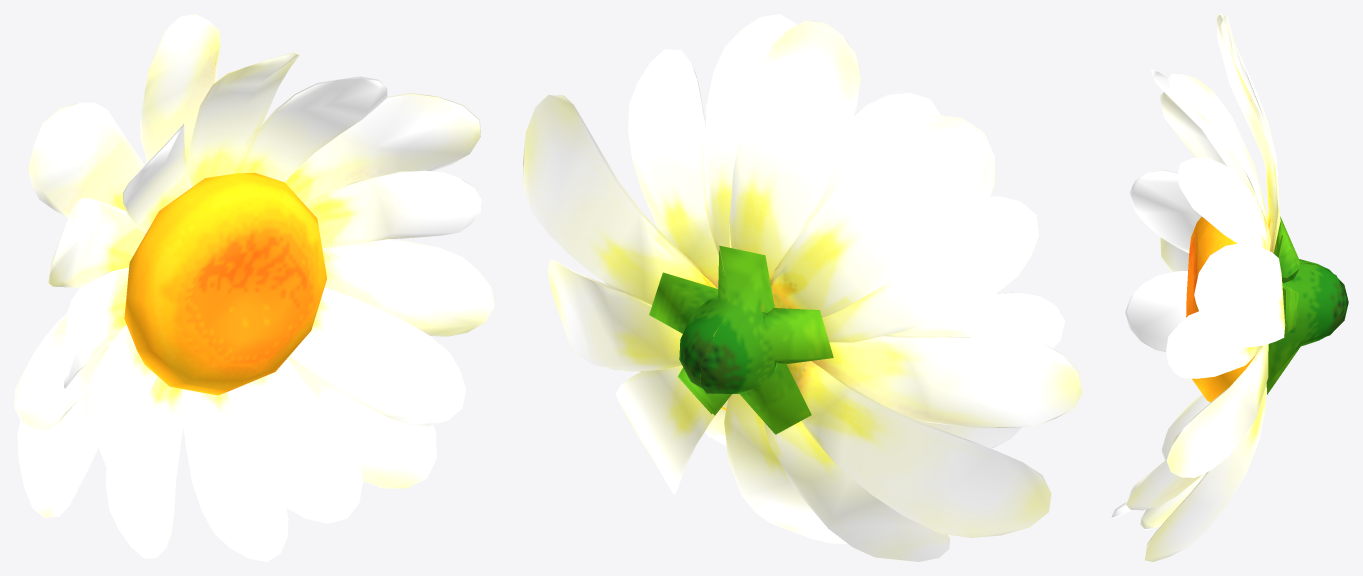
File: mdl_paprika_daisy.gltf
3 renders of one model, left to right at view 1: azimuth 30°, elevation 25°; view 2: azimuth 150°, elevation 25°; view 3: azimuth 270°, elevation 25°, orthographic. The views are drawn at different scales.
Visible parts, largest first — view 1: Object_5; view 2: Object_5; view 3: Object_5.
Part boxes in pixels (x1,y1,x2,y2): Object_5: [14, 14, 494, 561]; Object_5: [523, 14, 1082, 561]; Object_5: [1111, 14, 1348, 561].
Bounding box in the file's own units: 2.53 × 2.59 × 1.13.
Materials: 1 (1 with a texture image).
